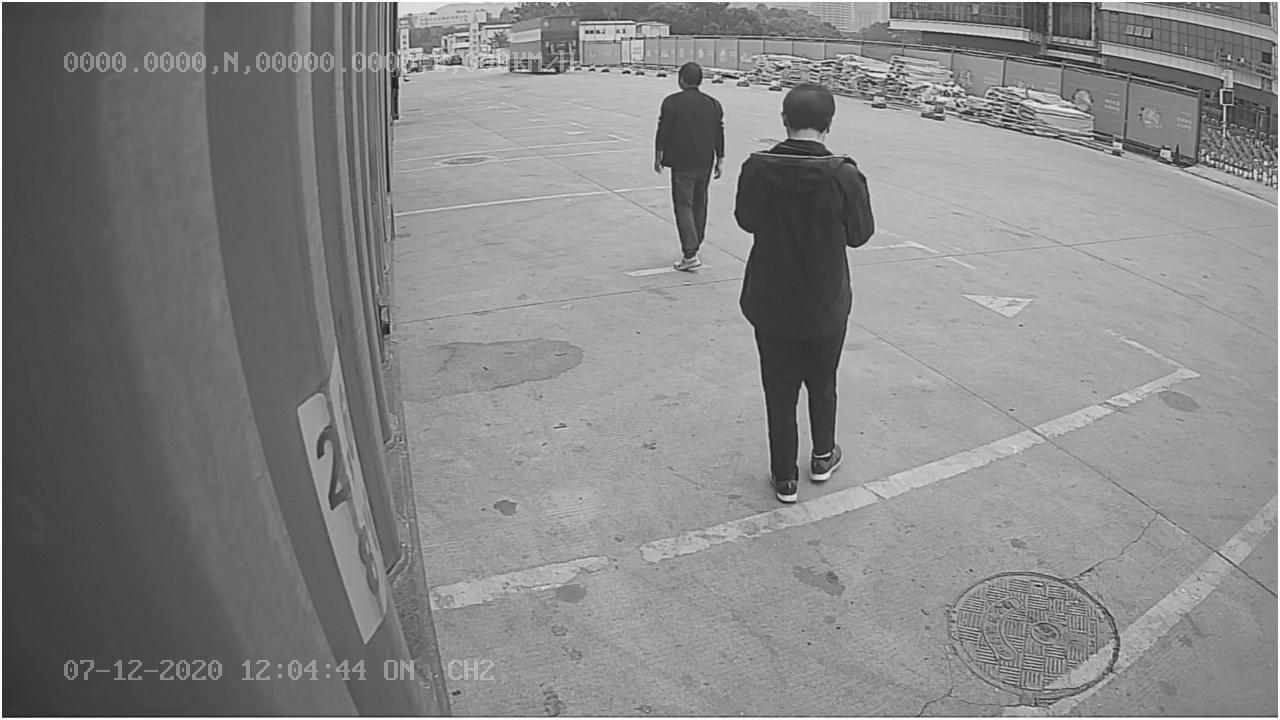person: (732, 80, 881, 500), (649, 58, 724, 273)
